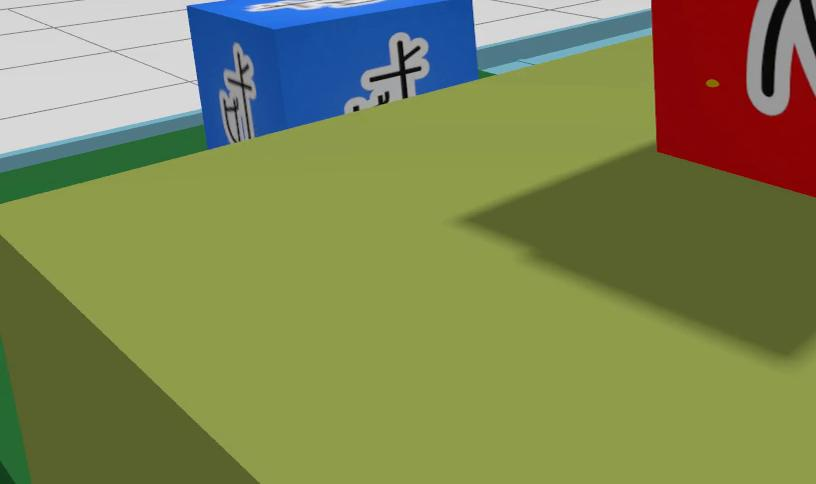KFS_FAKE: (649, 0, 816, 197), (746, 0, 816, 115)
KFS_REAL: (192, 0, 481, 147), (345, 32, 429, 111), (218, 44, 256, 142), (245, 0, 384, 11), (187, 0, 192, 4)
